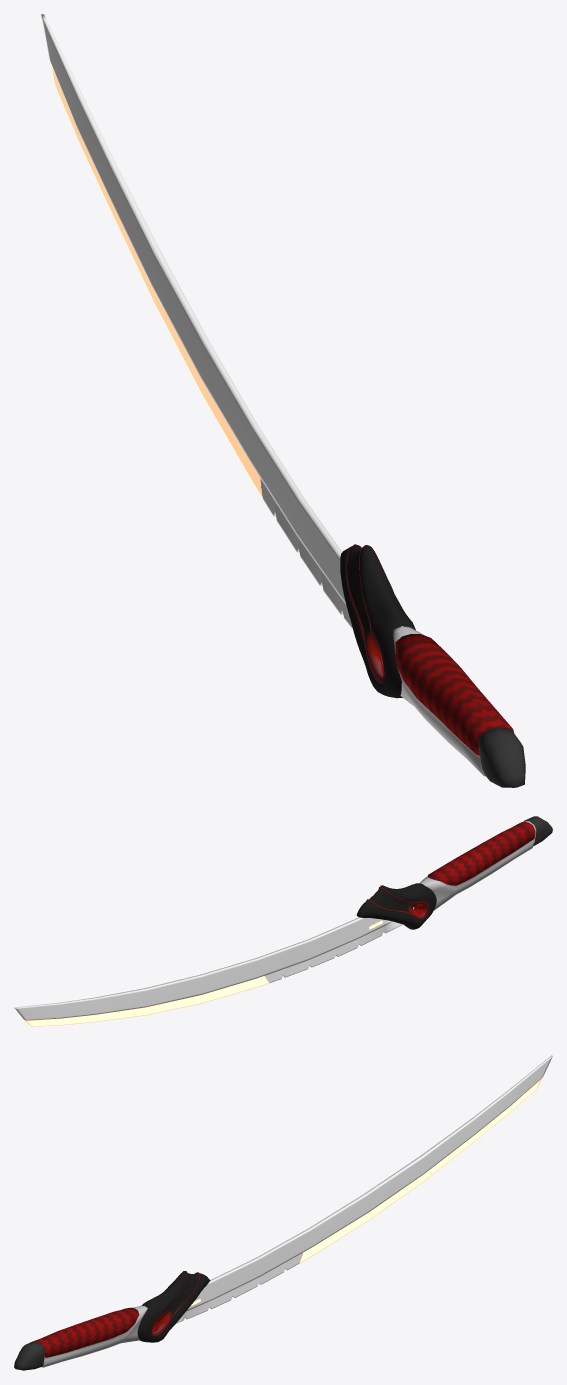
File: scifi_katana.glb
The picture shows the model from 3 angles, top to bottom: view 1: azimuth 30°, elevation 25°; view 2: azimuth 150°, elevation 25°; view 3: azimuth 330°, elevation 25°; orthographic projection. The views are drawn at different scales.
Visible parts, largest first — view 1: Katanaketchfab; view 2: Katanaketchfab; view 3: Katanaketchfab.
Part boxes in pixels (left/top/right/bottom): Katanaketchfab: left=41, top=14, right=525, bottom=787; Katanaketchfab: left=14, top=816, right=552, bottom=1026; Katanaketchfab: left=14, top=1055, right=552, bottom=1370.
Bounding box in the file's own units: 1.16 × 0.7368 × 5.01.
1 material, 1 textured.
